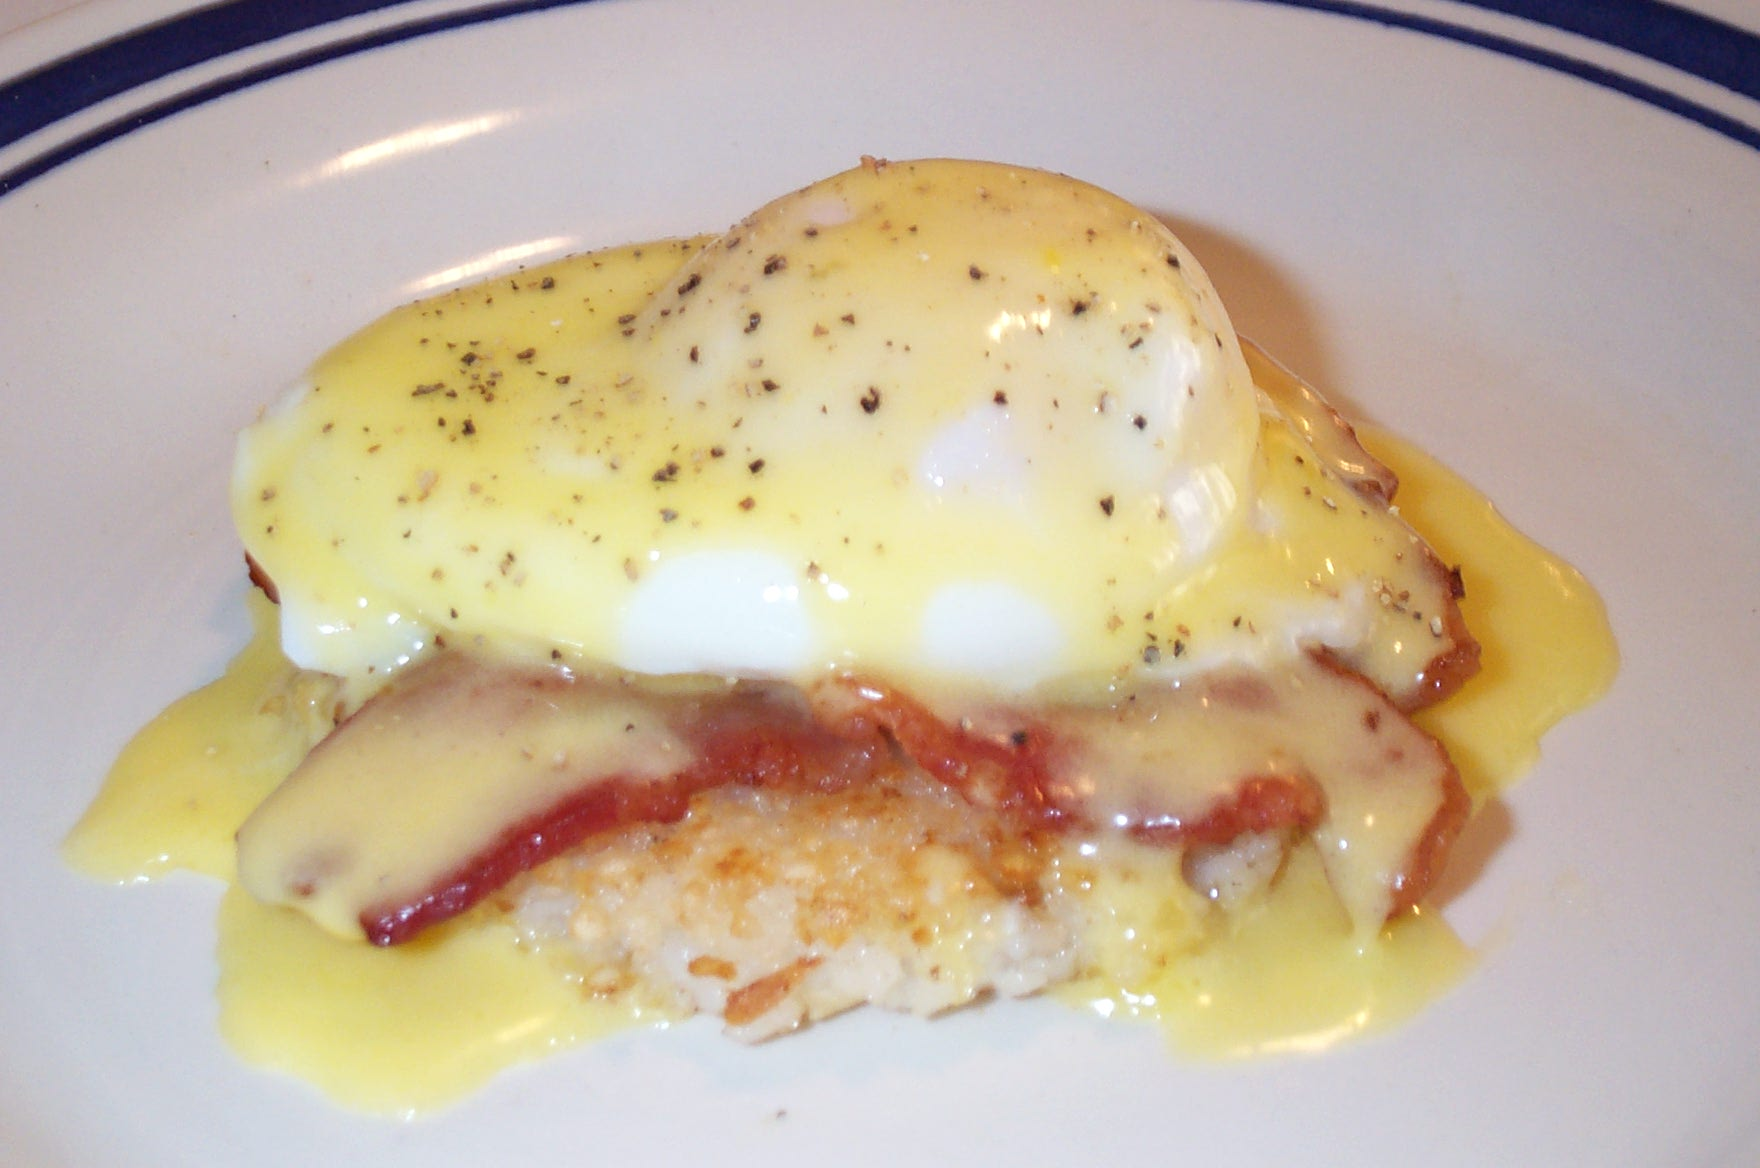fried egg: (416, 261, 1261, 661)
